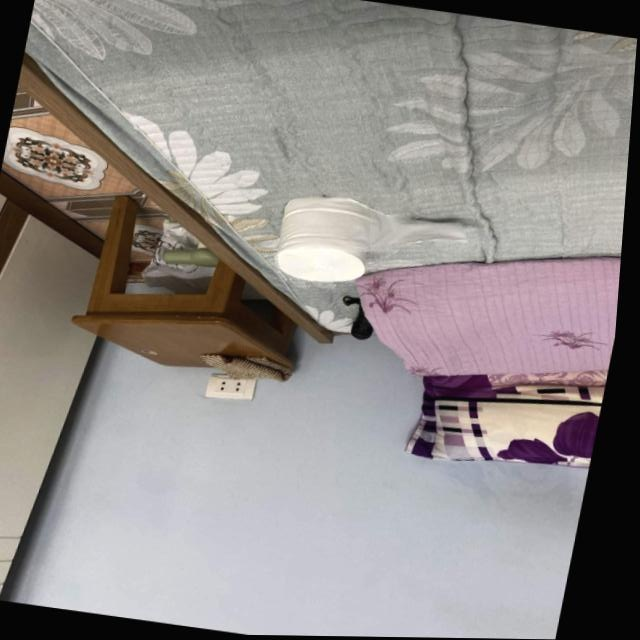outlet: (205, 370, 260, 403)
